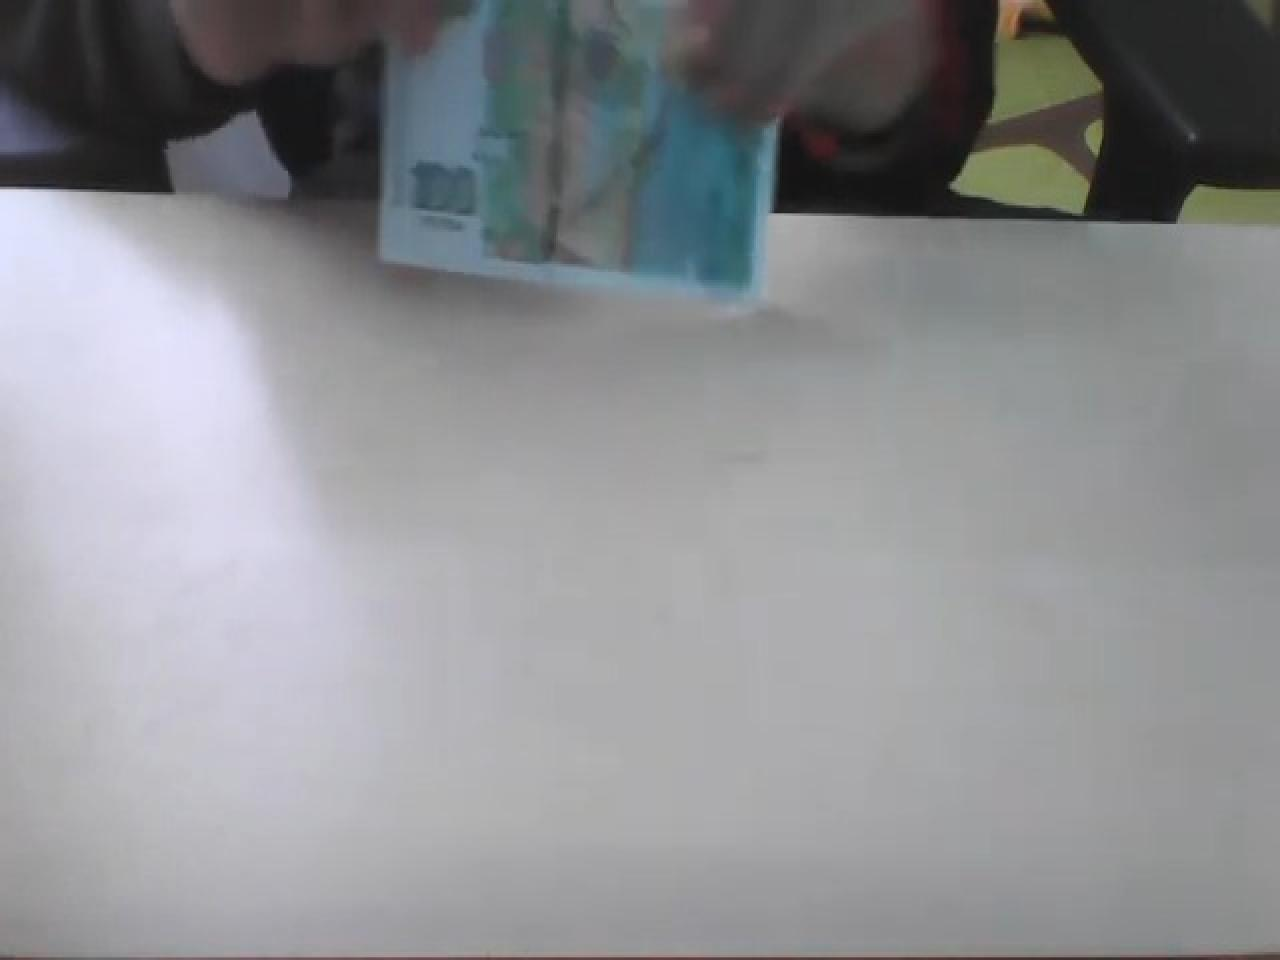100leva: (374, 0, 782, 307)
